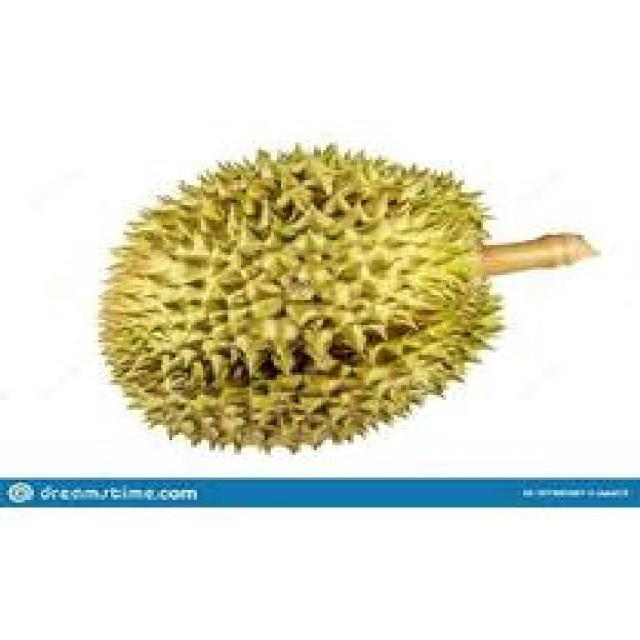fruit: (70, 117, 428, 475)
